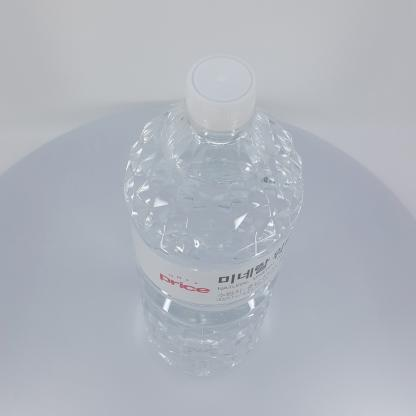--------------: (124, 54, 304, 376)
